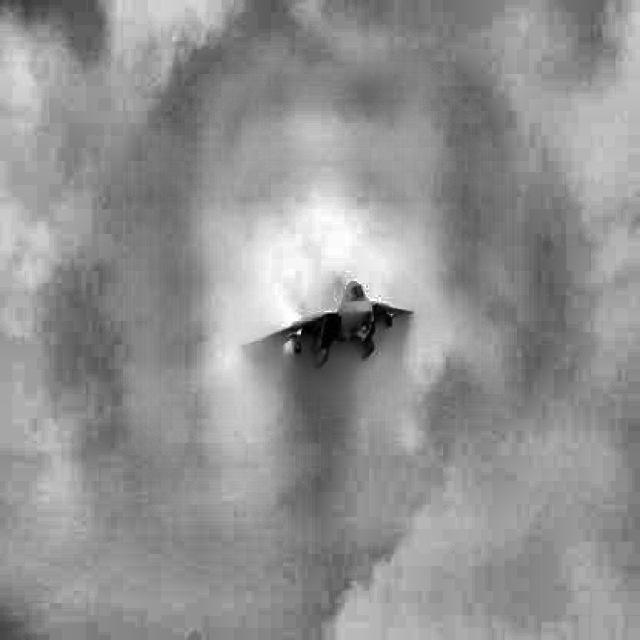F14: (238, 278, 414, 372)
